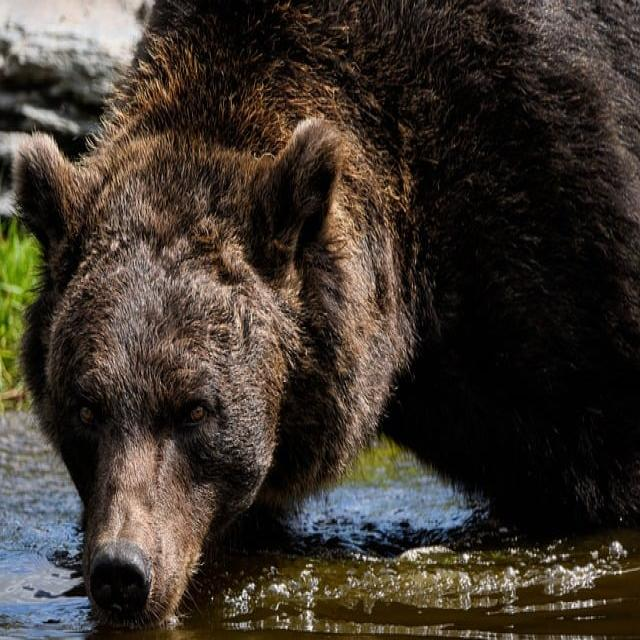Carnivorous: (0, 0, 640, 633)
